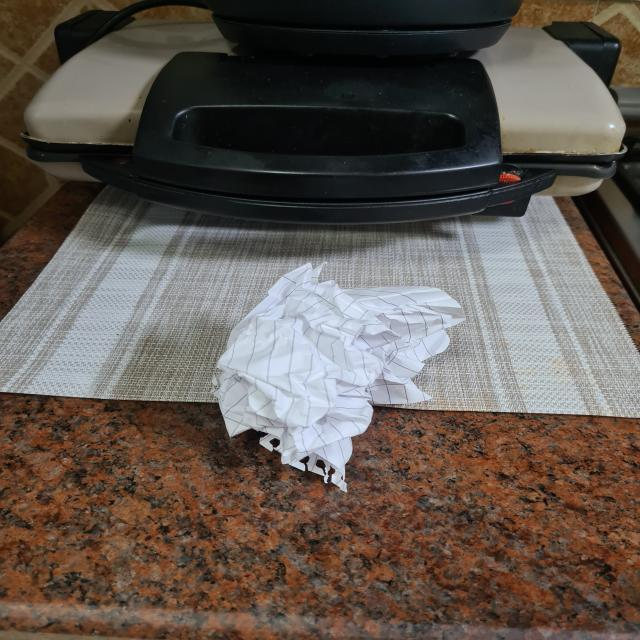Paper: (226, 259, 453, 482)
